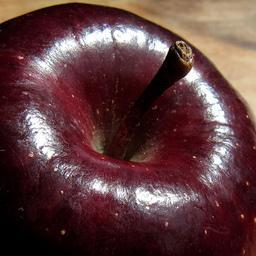apple: (0, 3, 255, 255)
